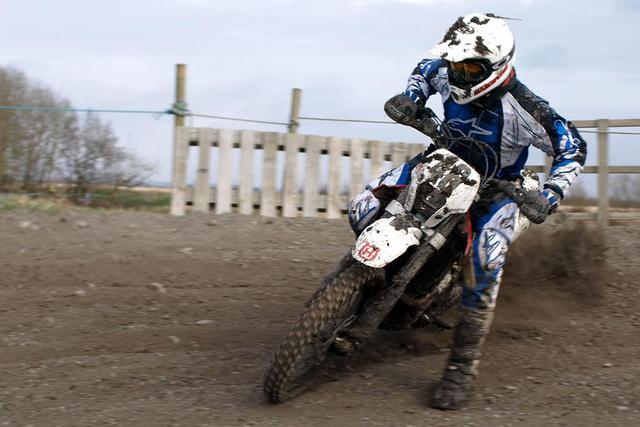helmet: (439, 11, 522, 100)
